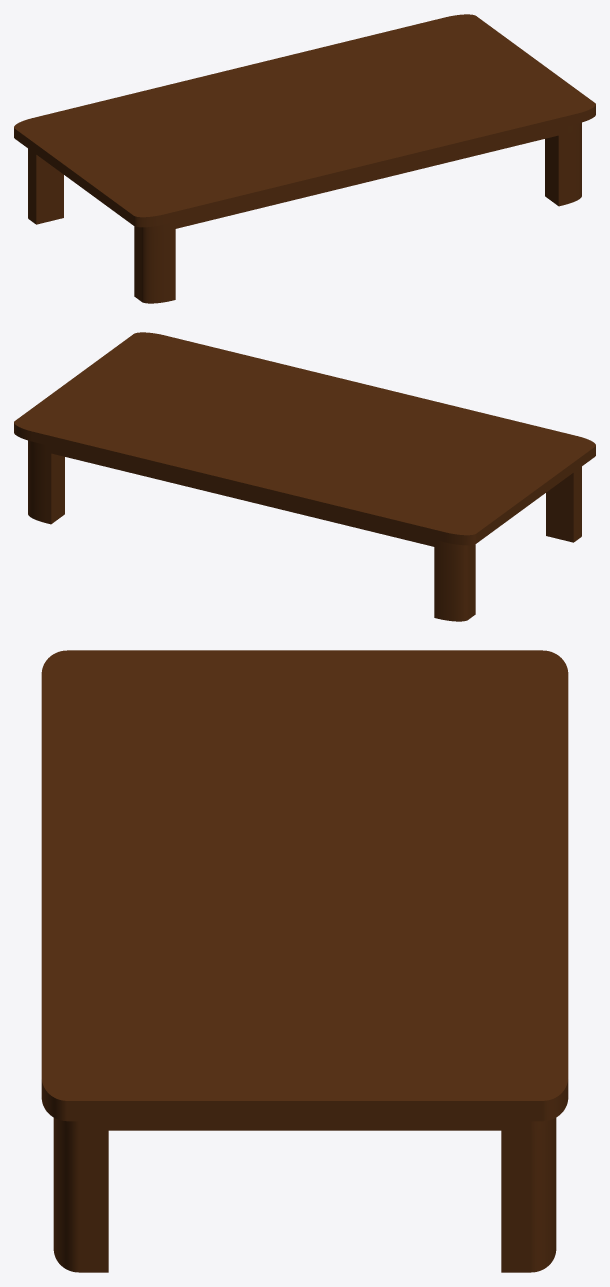
The model's file is DiningTable.glb.
3 views of the same model, one above another, from view 1: azimuth 30°, elevation 25°; view 2: azimuth 150°, elevation 25°; view 3: azimuth 270°, elevation 25° (orthographic). The views are drawn at different scales.
Parts seen in each view (by area): view 1: DiningTable-col; view 2: DiningTable-col; view 3: DiningTable-col.
Part boxes in pixels (x1=…): DiningTable-col: x1=14, y1=14, x2=595, y2=303; DiningTable-col: x1=14, y1=332, x2=595, y2=621; DiningTable-col: x1=41, y1=650, x2=568, y2=1272.
Bounding box in the file's own units: 47.66 × 9 × 23.55.
